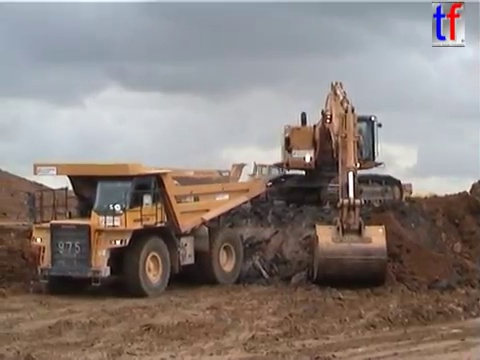excavator: (266, 78, 406, 289)
truck: (24, 161, 270, 298), (150, 160, 289, 204), (360, 181, 414, 206)
